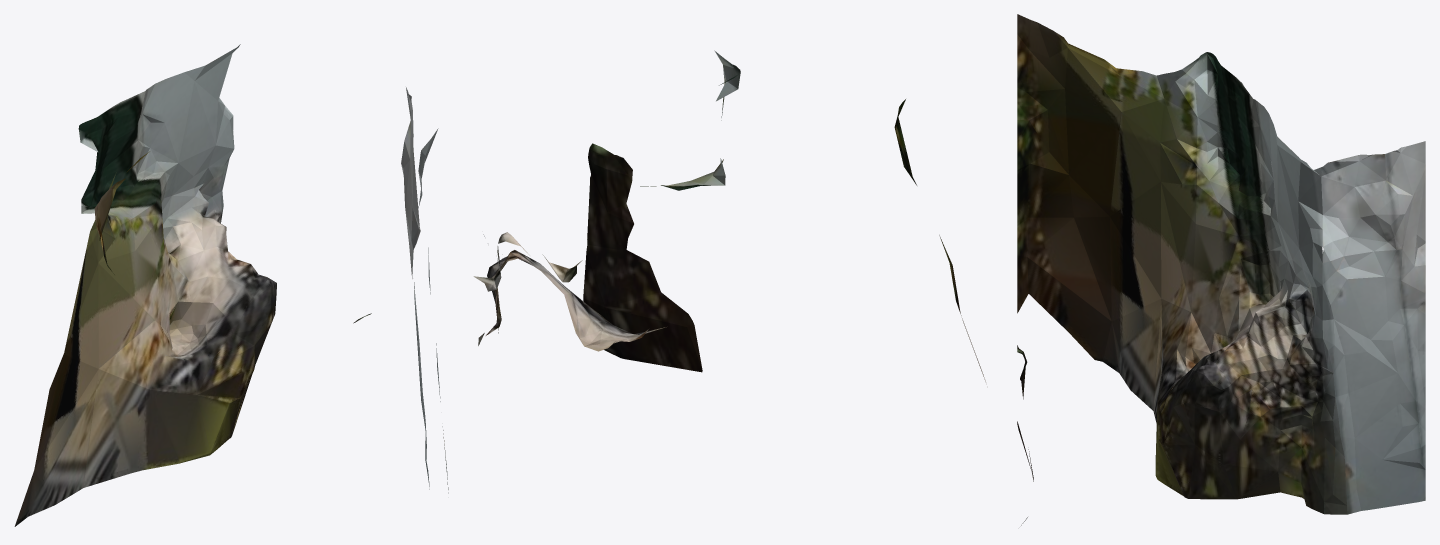
The picture shows the model from 3 angles, left to right: view 1: azimuth 30°, elevation 25°; view 2: azimuth 150°, elevation 25°; view 3: azimuth 270°, elevation 25°; orthographic projection. The views are drawn at different scales.
Size of the model in its own units: 3.35 by 3.35 by 3.35.
4 materials, 4 textured.
